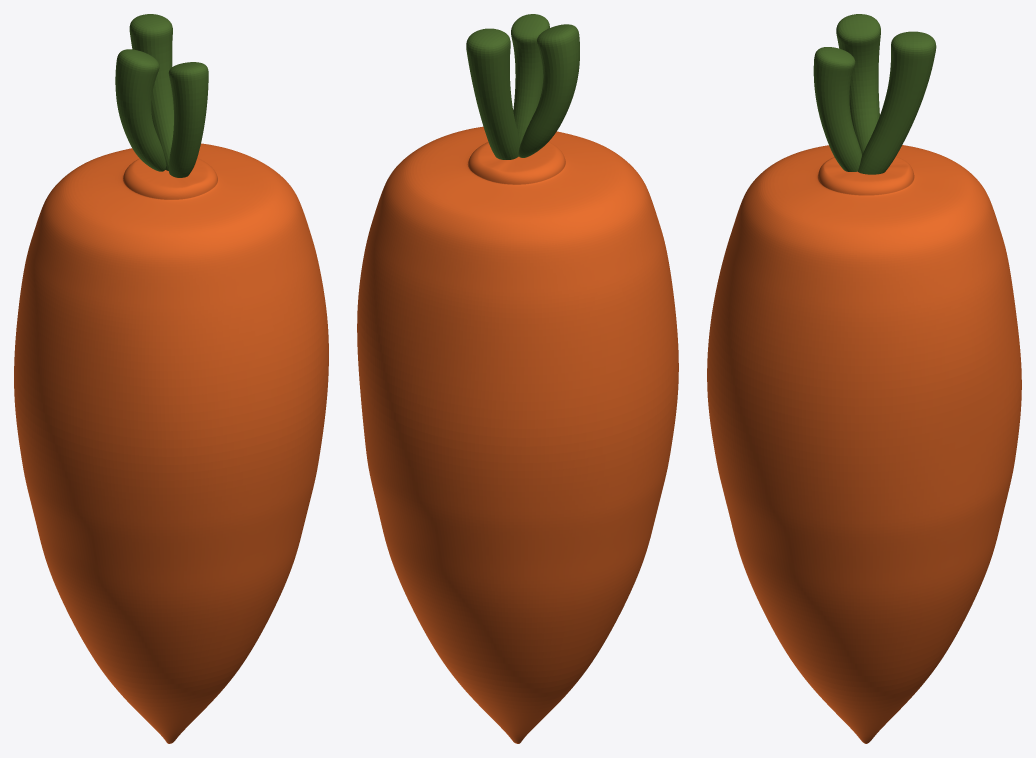
The model's file is carrot.fbx.
3 renders of one model, left to right at view 1: azimuth 30°, elevation 25°; view 2: azimuth 150°, elevation 25°; view 3: azimuth 270°, elevation 25°, orthographic. The views are drawn at different scales.
Parts seen in each view (by area): view 1: Cylinder, Cube.001, Cube.002, Cube; view 2: Cylinder, Cube, Cube.001, Cube.002; view 3: Cylinder, Cube, Cube.002, Cube.001.
Boxes of the visible parts, box(x1,y1,x2,y2) form: Cylinder: box(14, 143, 328, 743); Cube.001: box(115, 49, 166, 171); Cube.002: box(168, 62, 208, 177); Cube: box(129, 14, 173, 170); Cylinder: box(357, 126, 678, 743); Cube: box(466, 28, 520, 159); Cube.001: box(518, 24, 579, 157); Cube.002: box(511, 14, 549, 143); Cylinder: box(707, 145, 1021, 743); Cube: box(858, 31, 936, 174); Cube.002: box(813, 47, 861, 171); Cube.001: box(836, 14, 880, 154).
Bounding box in the file's own units: 413 × 1027 × 413.
